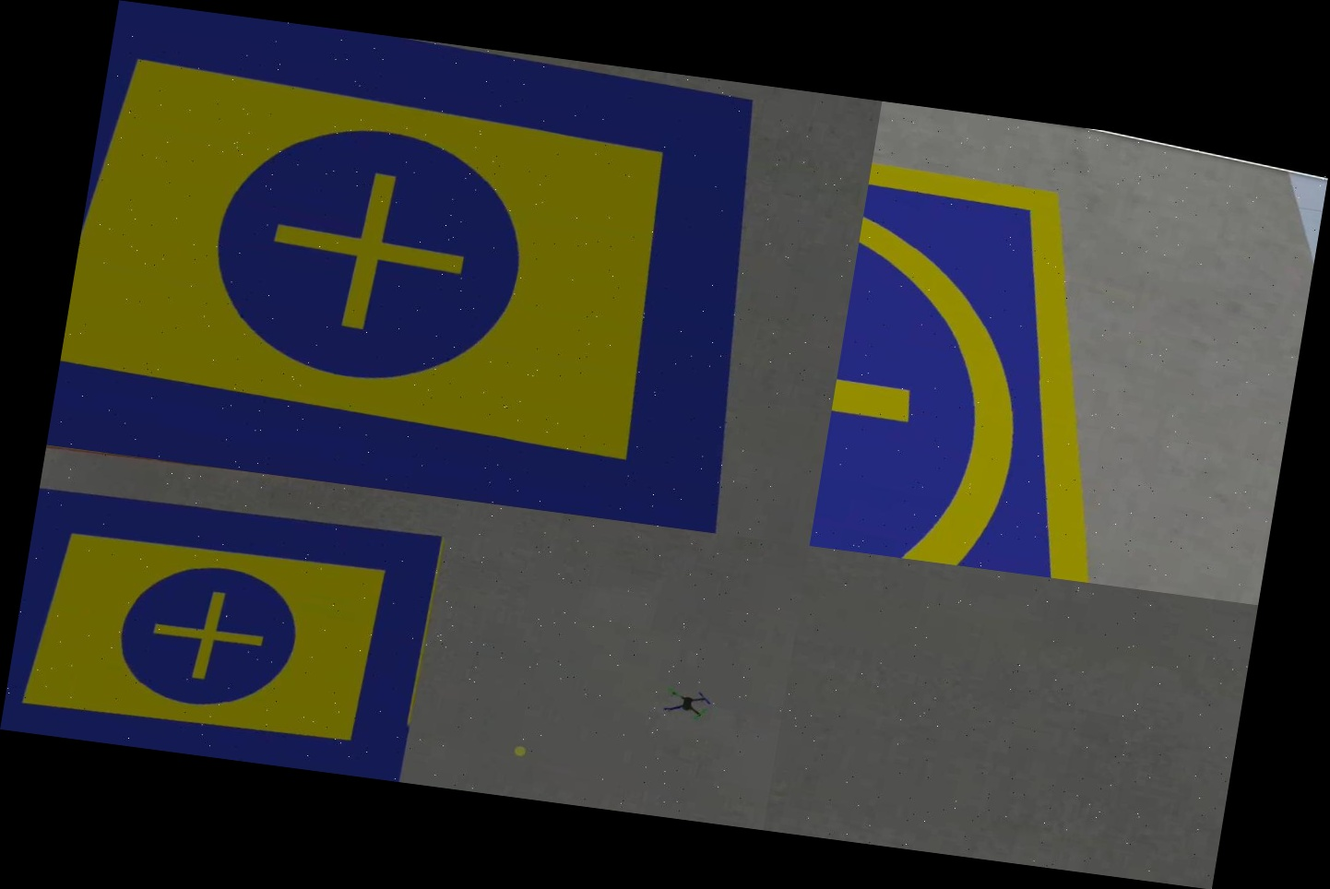large_base: (46, 0, 838, 540), (0, 449, 470, 785)
small_base: (809, 116, 1264, 597)
